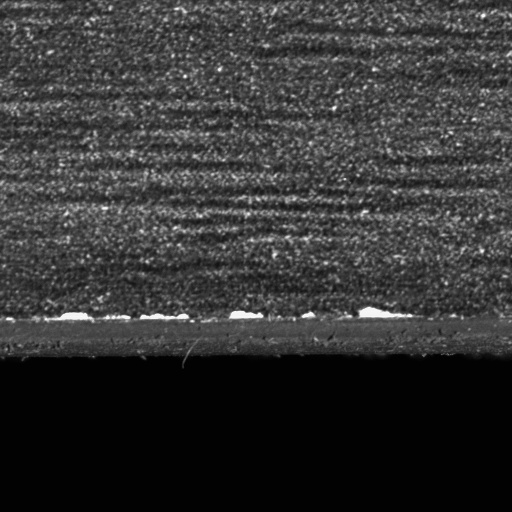huashang: (355, 306, 414, 320), (44, 312, 96, 322), (139, 313, 191, 322), (228, 309, 266, 321)
